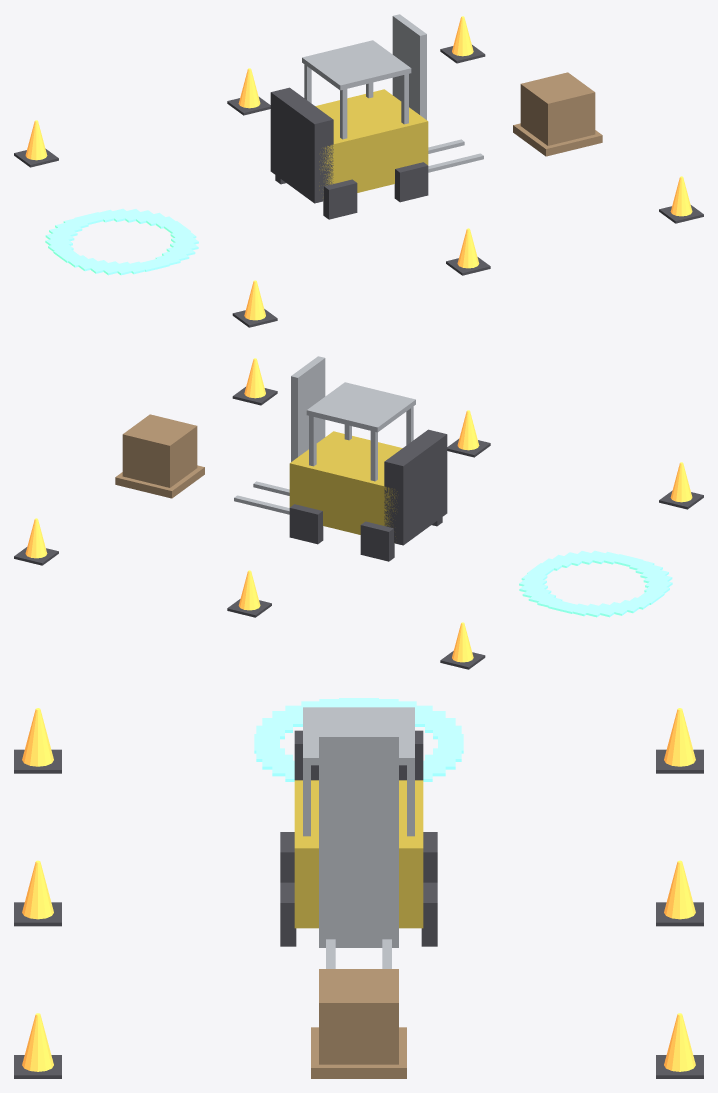
The model's file is wing-robot-forklift-run.glb.
The picture shows the model from 3 angles, top to bottom: view 1: azimuth 30°, elevation 25°; view 2: azimuth 150°, elevation 25°; view 3: azimuth 270°, elevation 25°; orthographic projection. The views are drawn at different scales.
Parts seen in each view (by area): view 1: Robot · forklift; view 2: Robot · forklift; view 3: Robot · forklift.
Boxes of the visible parts, bbox=[...] form: Robot · forklift: bbox=[14, 14, 703, 327]; Robot · forklift: bbox=[14, 356, 703, 669]; Robot · forklift: bbox=[14, 698, 703, 1078].
Size of the model in its own units: 11.11 by 3 by 8.6.
